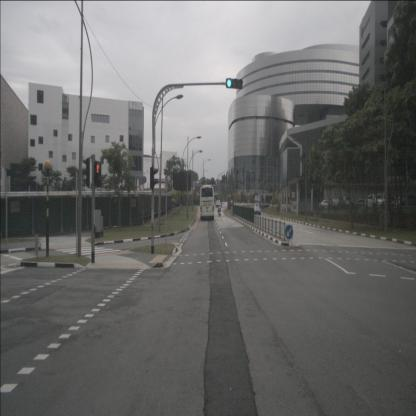vehicle-bus-rigid: (200, 185, 214, 220)
vehicle-car: (365, 194, 386, 209), (338, 196, 354, 210), (327, 198, 341, 210), (354, 199, 368, 209), (319, 200, 334, 209), (253, 204, 261, 216), (229, 199, 234, 208), (216, 200, 221, 208)
vehicle-motorcycle: (218, 204, 221, 218)
vehicle-truck: (254, 195, 262, 210)
